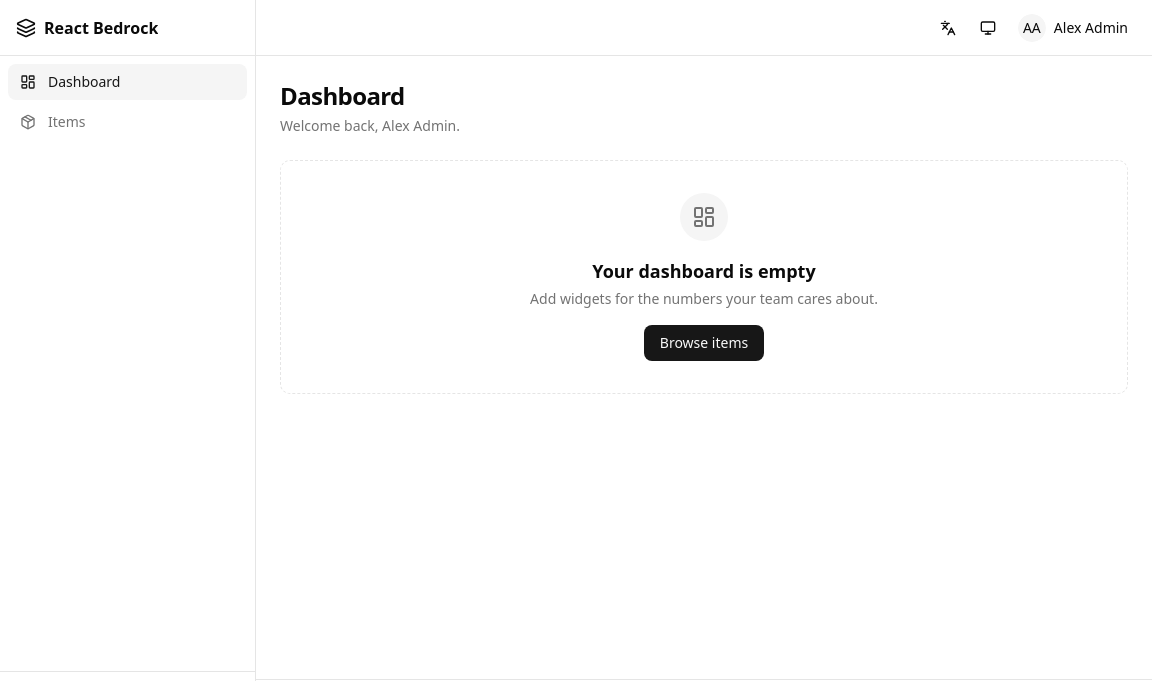
Test: app routes › navigates from the sidebar to the items list, then to an item
Click the link "Items": (53, 122) [20,112,86,131]
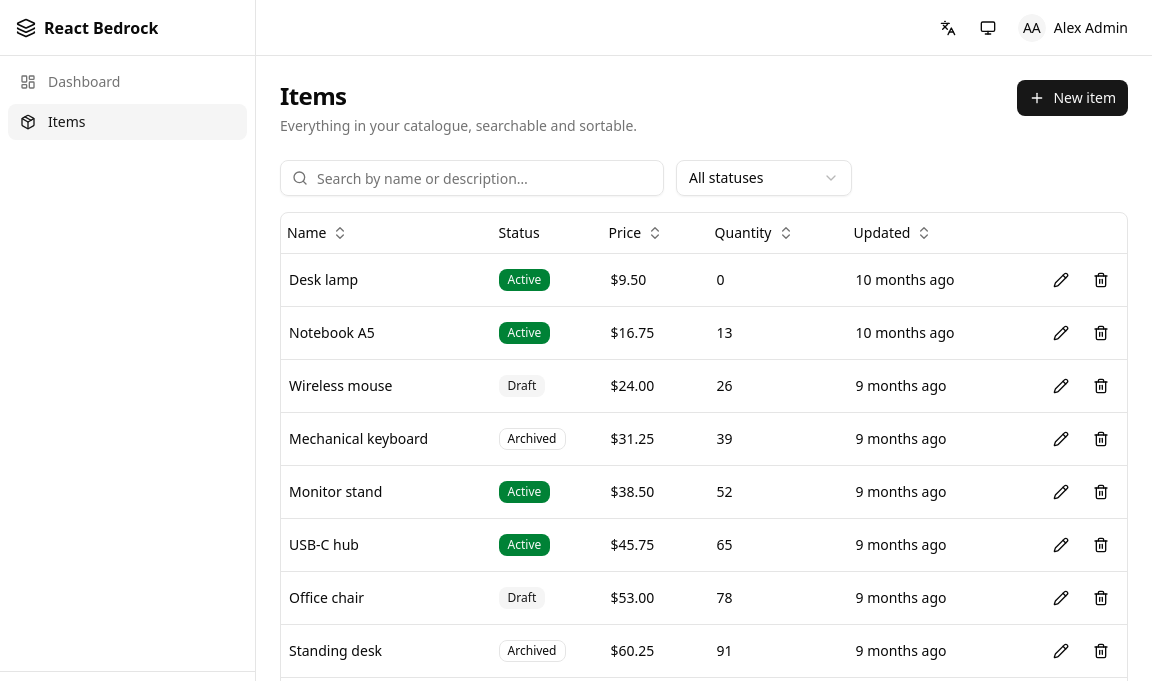
Click the link "Desk lamp": (324, 279) [289,270,358,288]
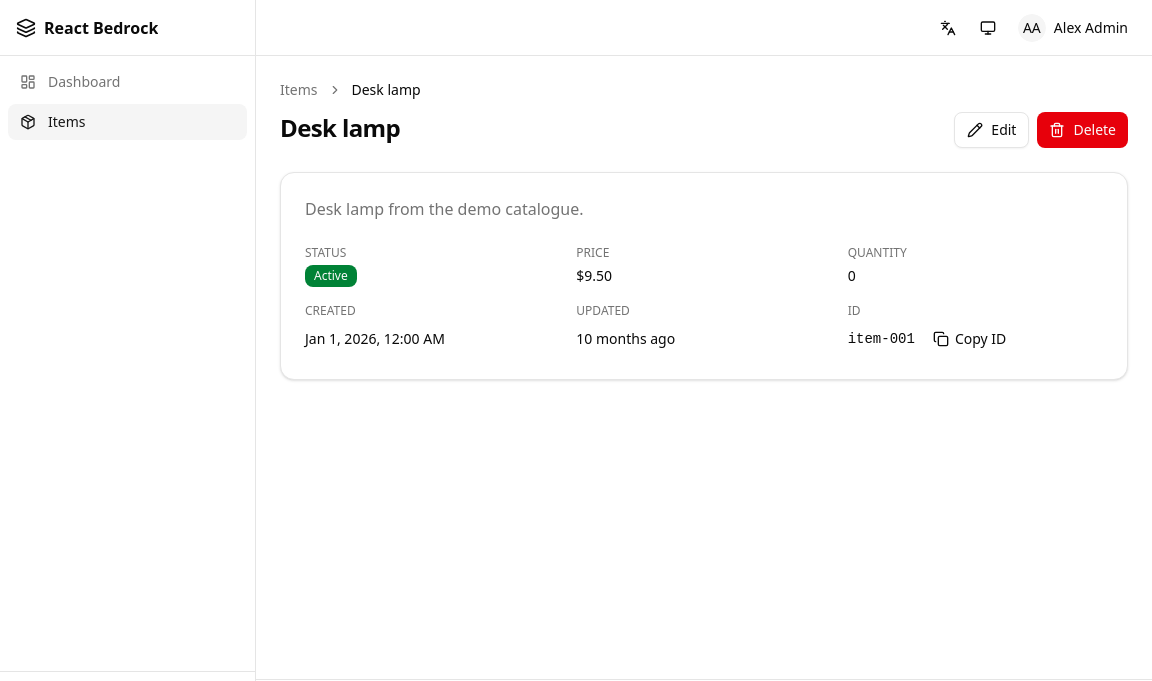
Expected: the heading "Desk lamp" is shown, [280,112,400,144]
